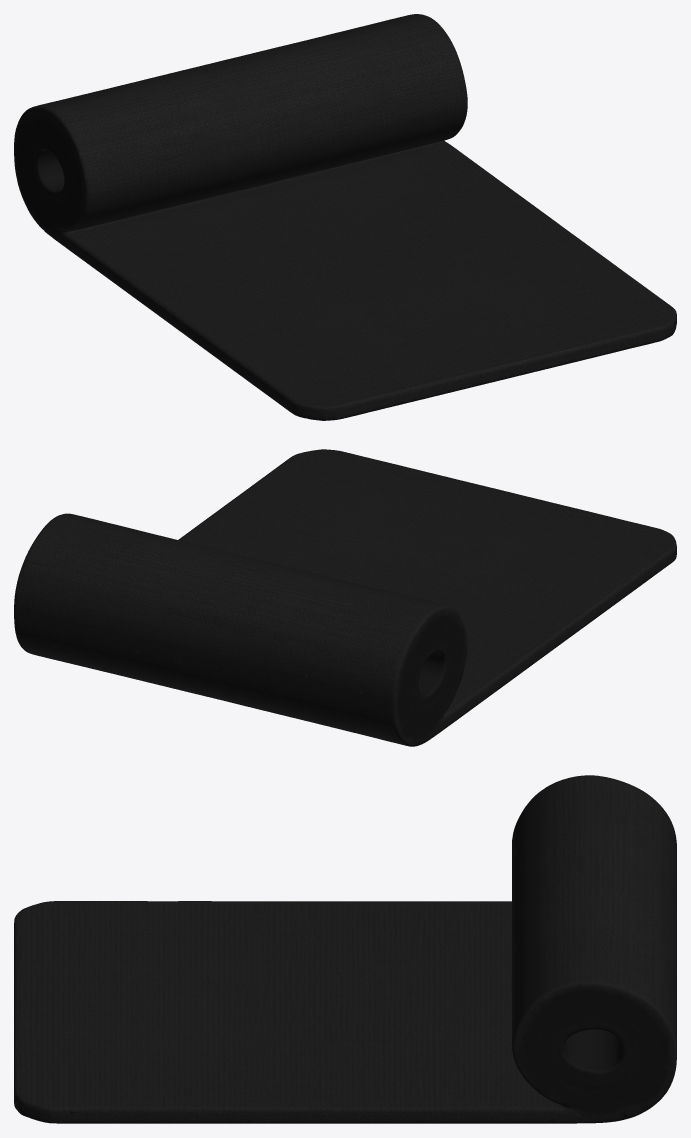
The model's file is yoga_roll_halfrolled.glb.
The picture shows the model from 3 angles, top to bottom: view 1: azimuth 30°, elevation 25°; view 2: azimuth 150°, elevation 25°; view 3: azimuth 270°, elevation 25°; orthographic projection. The views are drawn at different scales.
Parts seen in each view (by area): view 1: world; view 2: world; view 3: world.
Boxes of the visible parts, <box> form: world: <box>14,14,676,420</box>; world: <box>14,449,676,746</box>; world: <box>14,775,676,1123</box>.
Size of the model in its own units: 0.7445 by 0.2371 by 1.
1 material, 1 textured.
